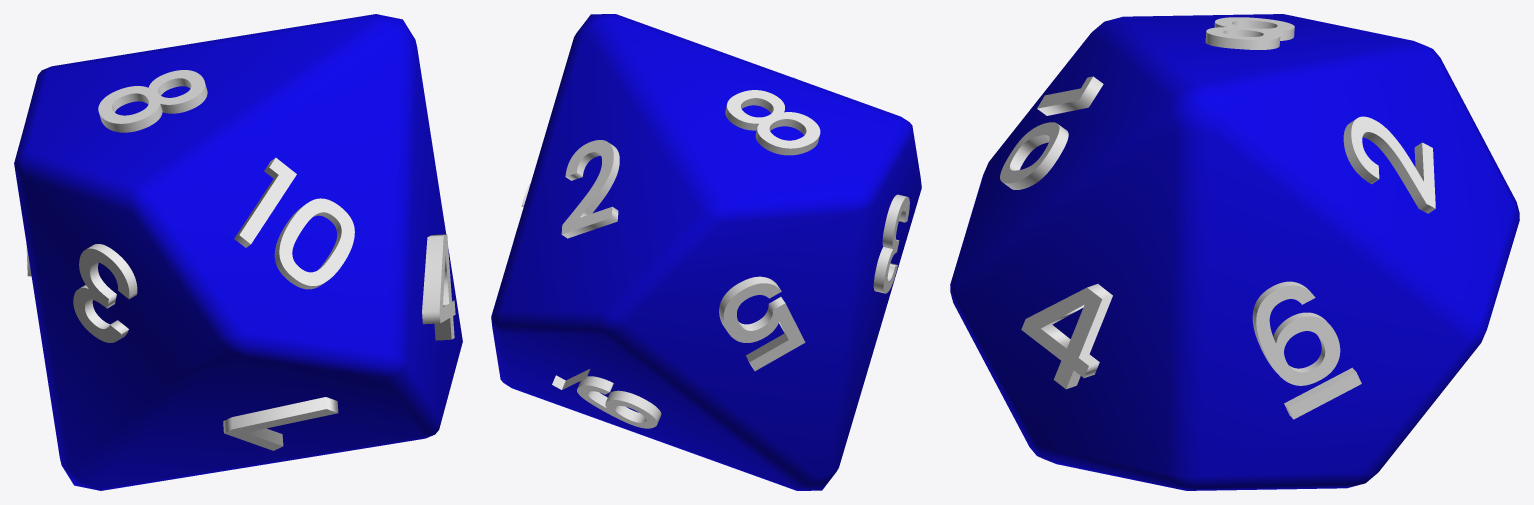
3 views of the same model, side by side, from view 1: azimuth 30°, elevation 25°; view 2: azimuth 150°, elevation 25°; view 3: azimuth 270°, elevation 25° (orthographic). The views are drawn at different scales.
Parts seen in each view (by area): view 1: d10, d10_numbers; view 2: d10, d10_numbers; view 3: d10, d10_numbers.
Boxes of the visible parts, x1,y1,x2,y2 form: d10: (14, 14, 462, 490); d10_numbers: (26, 70, 455, 450); d10: (491, 14, 921, 490); d10_numbers: (513, 77, 909, 428); d10: (950, 14, 1519, 490); d10_numbers: (1000, 17, 1435, 419).
Bounding box in the file's own units: 0.5922 × 0.6158 × 0.6881.
